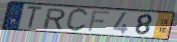4: (112, 11, 129, 36)
8: (134, 13, 154, 37)
C: (65, 8, 90, 33)
F: (86, 10, 112, 33)
R: (42, 8, 67, 30)
T: (25, 5, 44, 30)
